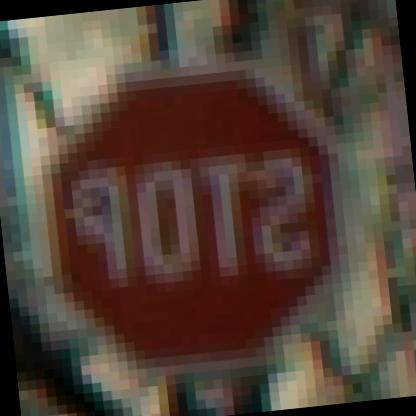stop: (9, 39, 370, 409)
